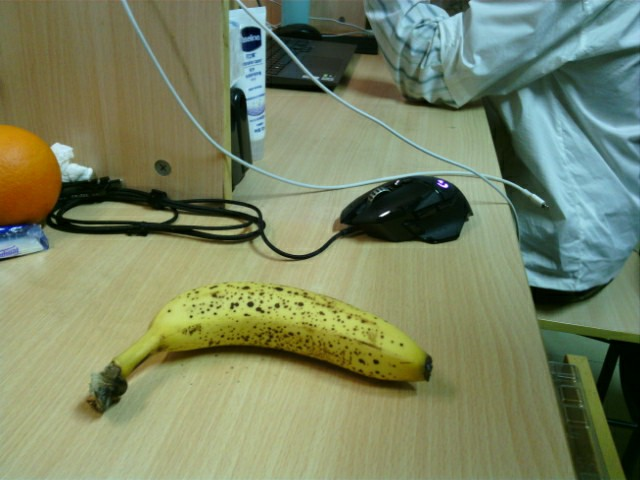normal_banana: (89, 282, 433, 418)
normal_orange: (1, 124, 60, 221)
